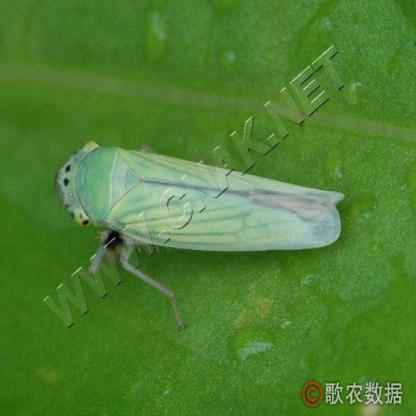Green-Leafhopper: (55, 129, 359, 304)
